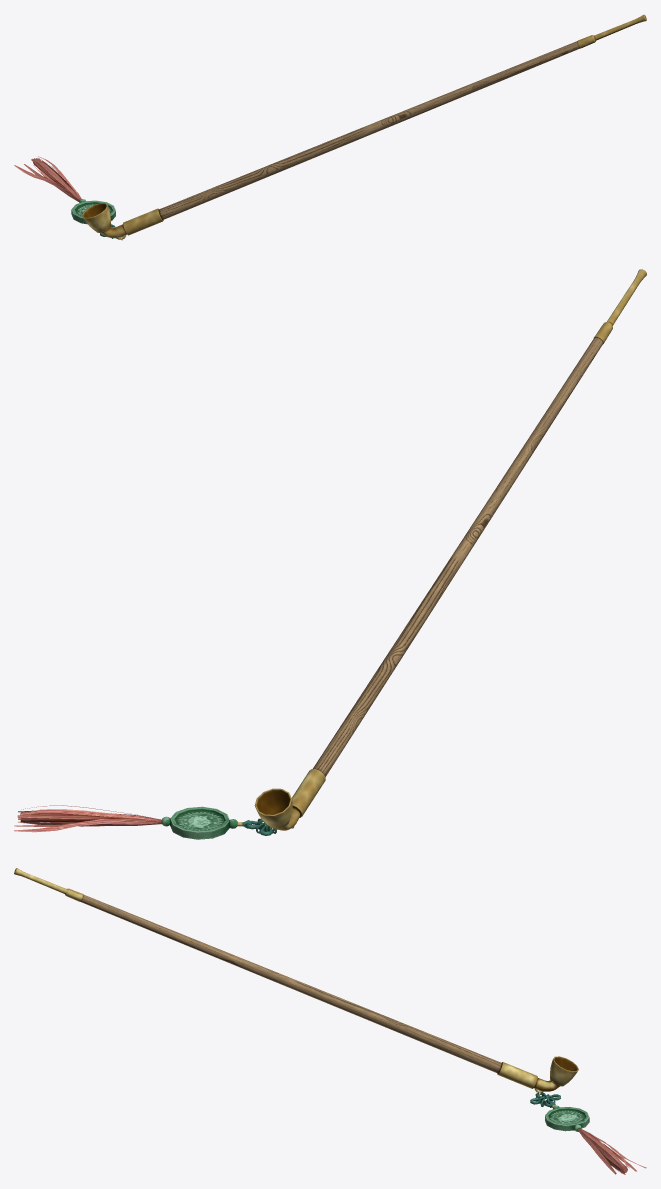
File: TraditionalKoreanHouse_Gombangdae.fbx
3 views of the same model, one above another, from view 1: azimuth 90°, elevation 25°; view 2: azimuth 150°, elevation 25°; view 3: azimuth 270°, elevation 25° (orthographic). The views are drawn at different scales.
Parts seen in each view (by area): view 1: TraditionalKoreanHouse_Gombangdae; view 2: TraditionalKoreanHouse_Gombangdae; view 3: TraditionalKoreanHouse_Gombangdae.
Part boxes in pixels (x1=…): TraditionalKoreanHouse_Gombangdae: x1=14, y1=14, x2=646, y2=240; TraditionalKoreanHouse_Gombangdae: x1=14, y1=269, x2=646, y2=839; TraditionalKoreanHouse_Gombangdae: x1=14, y1=868, x2=646, y2=1174.
Bounding box in the file's own units: 17.58 × 22.06 × 54.89.
